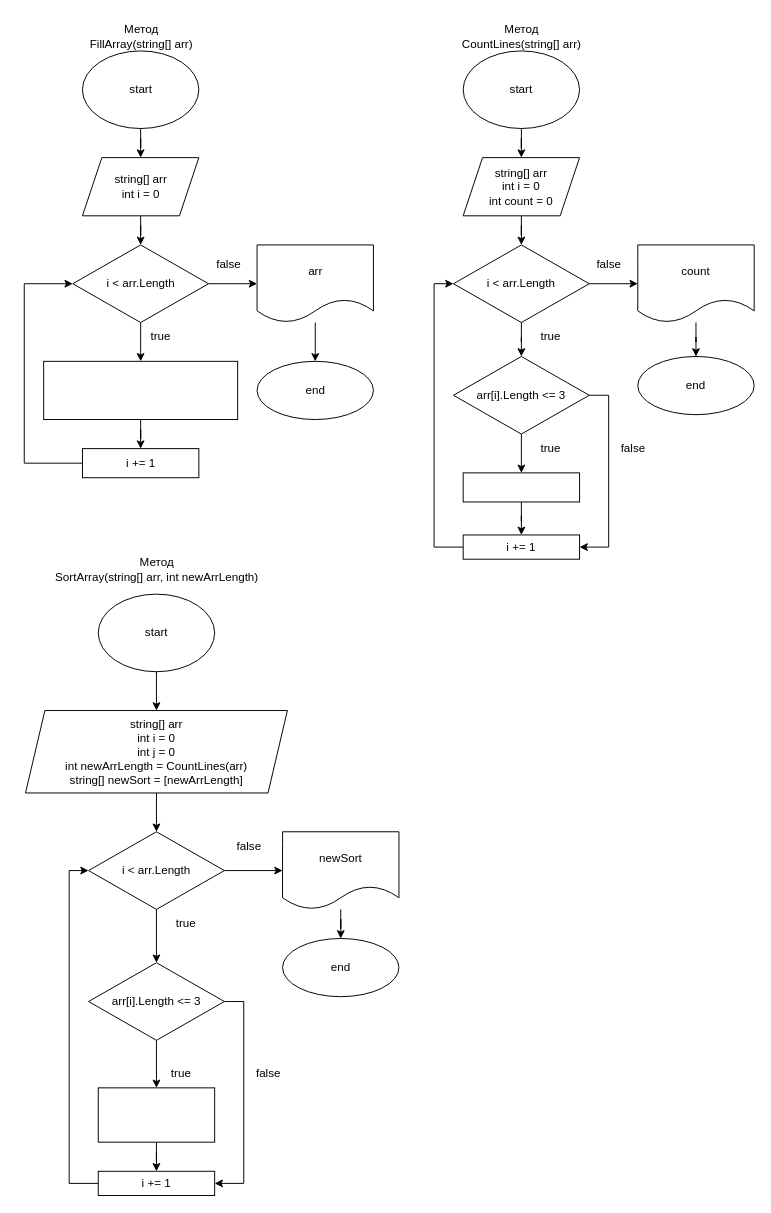
Some shapes in this 771 by 1213 pixel diagram are drawn without their labels. Here are the shapes that lost their labels. From the top down, the centre of each, then its label:
the point at 140,390: string word = Console.ReadLine() arr[i] = word
the point at 521,487: count += 1
the point at 156,1114: newSort[j] = arr[i] j += 1
